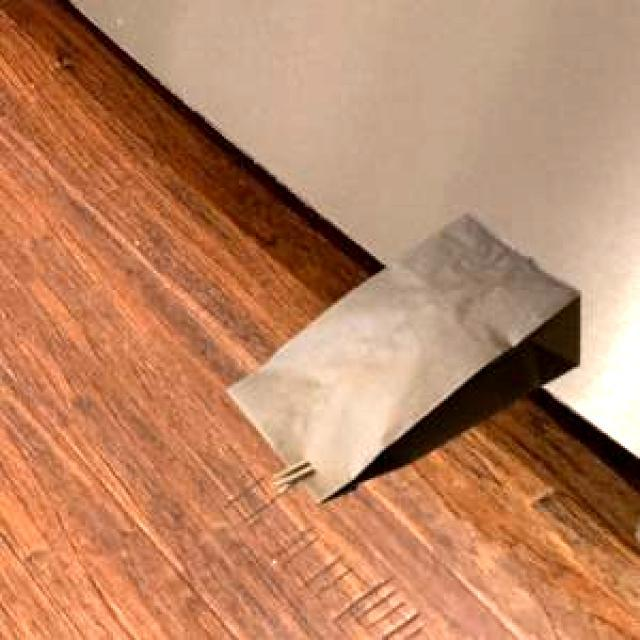Paper_Bag: (225, 210, 577, 500)
